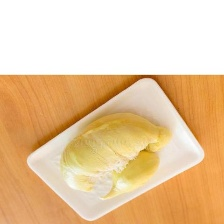foam_box: (23, 74, 209, 224)
